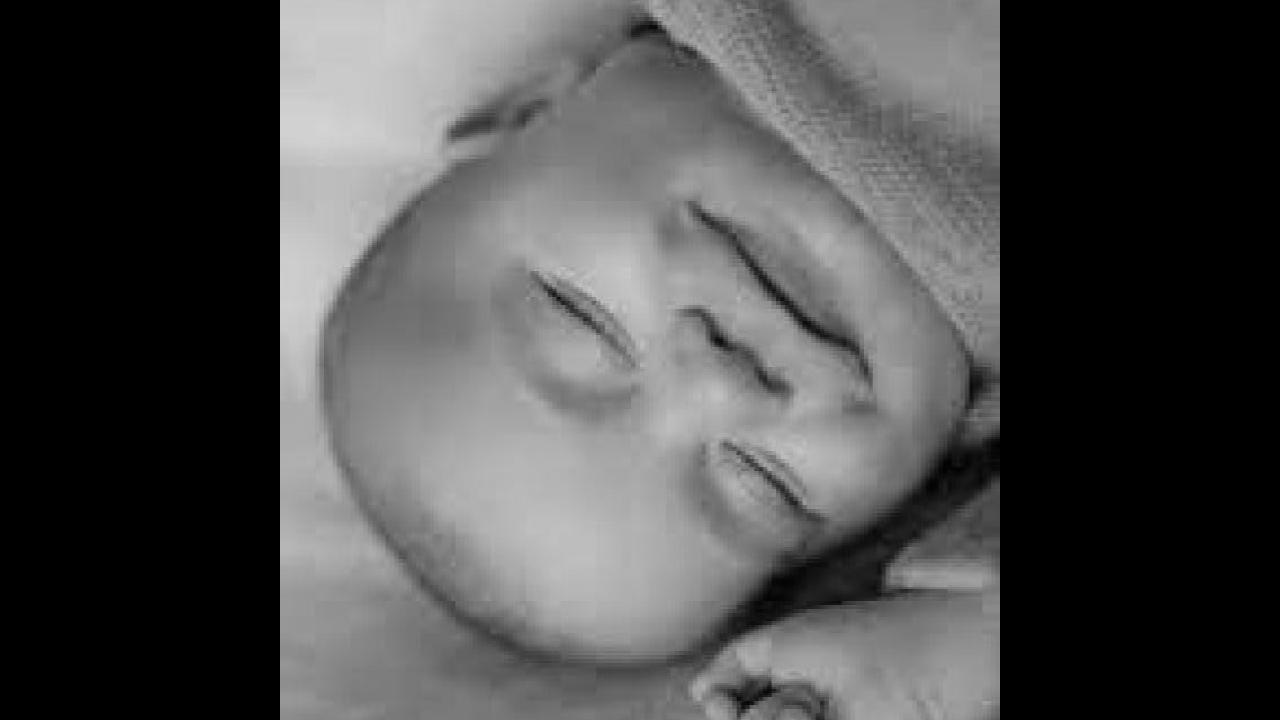hand: (688, 591, 928, 720)
